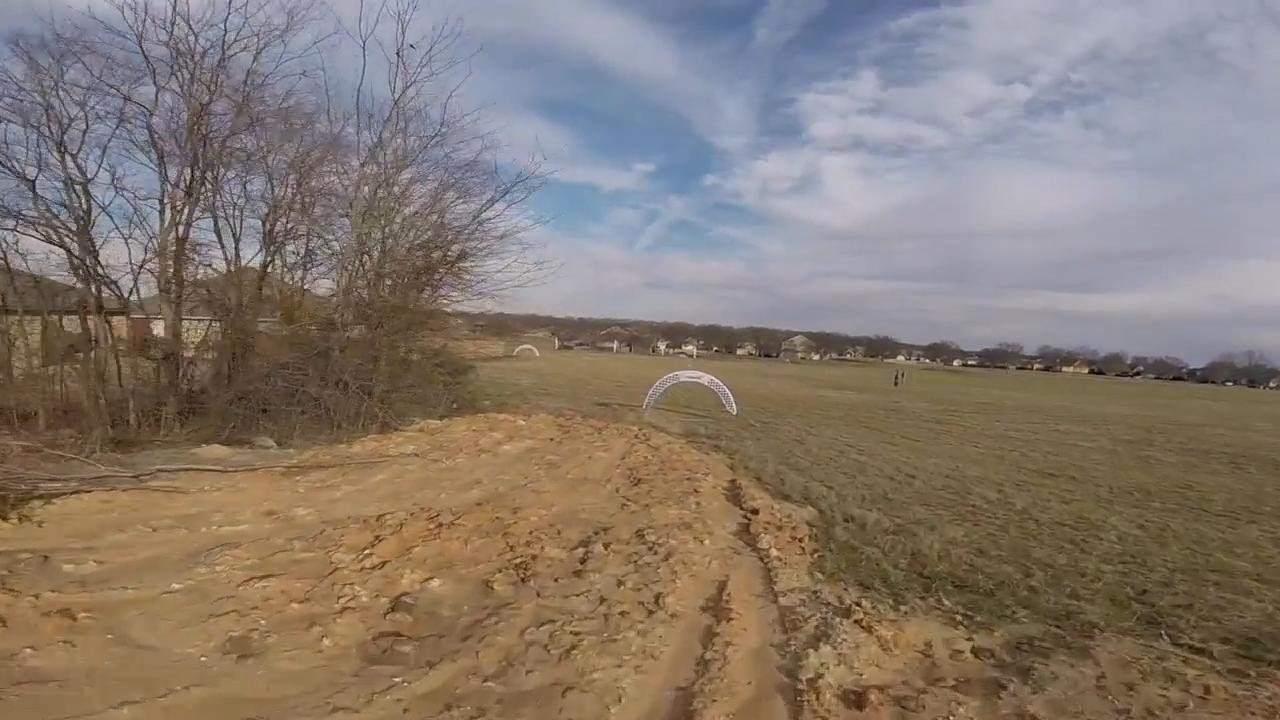gate: (640, 370, 740, 421)
